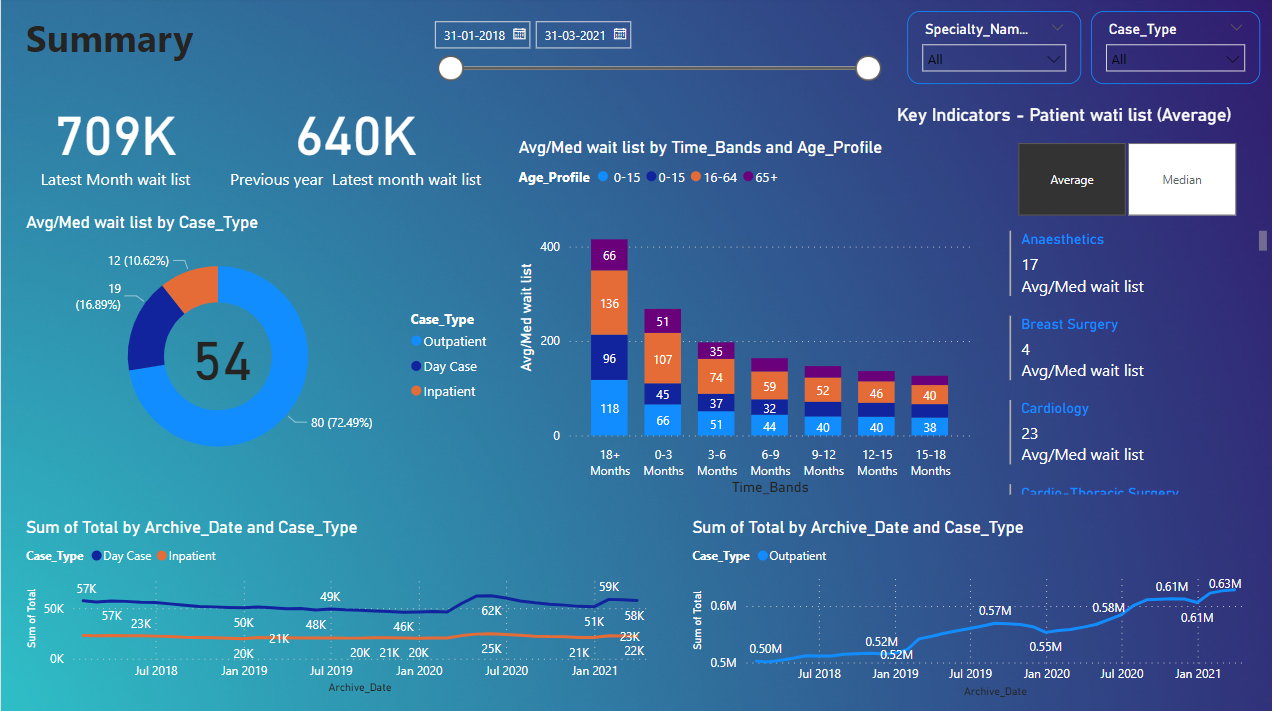

The dashboard page shown, as its layout file describes it:
{"tool":"powerbi","page":{"name":"Summary","canvas":[1280,720],"ordinal":0},"visuals":[{"type":"card","fields":{"Values":["All_data.Latest Month wait list"]},"box":[20.2,84.5,190.4,113.1],"z":0},{"type":"card","fields":{"Values":["All_data.Py Latest month wait list"]},"box":[221.4,89.3,271.3,104.7],"z":1000},{"type":"slicer","fields":{"Values":["Calculation Method.Calc Method"]},"box":[903.5,93.6,346,67.9],"z":2000},{"type":"donutChart","fields":{"Category":["All_data.Case_Type"],"Y":["All_data.Avg/Med wait list"]},"box":[20.2,216.6,483.2,207.1],"z":3000},{"type":"columnChart","fields":{"Y":["All_data.Avg/Med wait list"],"Series":["All_data.Age_Profile"],"Category":["All_data.Time_Bands"]},"box":[523.6,184.5,465.3,271.3],"z":4000},{"type":"multiRowCard","fields":{"Values":["All_data.Specialty_Name","All_data.Avg/Med wait list"]},"box":[1020.1,161.5,249.9,275.5],"z":5000},{"type":"lineChart","fields":{"Series":["All_data.Case_Type"],"Y":["Sum(All_data.Total)"],"Category":["All_data.Archive_Date"]},"box":[41.7,438,398.7,269],"z":6000},{"type":"lineChart","fields":{"Series":["All_data.Case_Type"],"Y":["Sum(All_data.Total)"],"Category":["All_data.Archive_Date"]},"box":[699.7,496,579.3,199.9],"z":6001},{"type":"slicer","fields":{"Values":["All_data.Case_Type"]},"box":[1086.6,19.3,170.1,60.3],"z":6002},{"type":"slicer","fields":{"Values":["All_data.Speciality_Name"]},"box":[902.1,18.1,174.9,61.5],"z":6003},{"type":"slicer","fields":{"Values":["All_data.Archive_Date"]},"box":[464.3,8.4,398,80.8],"z":6004},{"type":"textbox","box":[20.5,12.1,250.9,67.5],"z":6005}]}

Visuals, with their boxes in screenshot pixels (x1, y1, x2, y2), scaled from the page's 1280x720 canvas onto the 1273x711 screenshot:
card - All_data.Latest Month wait list: locate(20, 83, 209, 195)
card - All_data.Py Latest month wait list: locate(220, 88, 490, 192)
slicer - Calculation Method.Calc Method: locate(899, 92, 1243, 159)
donutChart - All_data.Case_Type x All_data.Avg/Med wait list: locate(20, 214, 501, 418)
columnChart - All_data.Avg/Med wait list x All_data.Age_Profile: locate(521, 182, 983, 450)
multiRowCard - All_data.Specialty_Name x All_data.Avg/Med wait list: locate(1015, 159, 1263, 432)
lineChart - All_data.Case_Type x Sum(All_data.Total): locate(41, 433, 438, 698)
lineChart - All_data.Case_Type x Sum(All_data.Total): locate(696, 490, 1272, 687)
slicer - All_data.Case_Type: locate(1081, 19, 1250, 79)
slicer - All_data.Speciality_Name: locate(897, 18, 1071, 79)
slicer - All_data.Archive_Date: locate(462, 8, 858, 88)
textbox: locate(20, 12, 270, 79)
